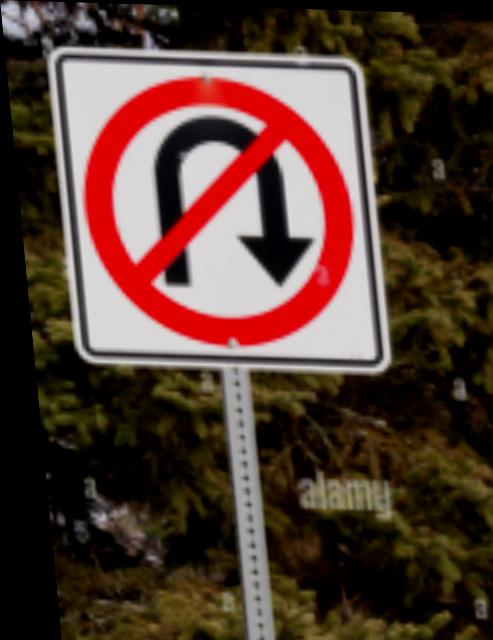not_u_turn_right: (67, 67, 367, 358)
